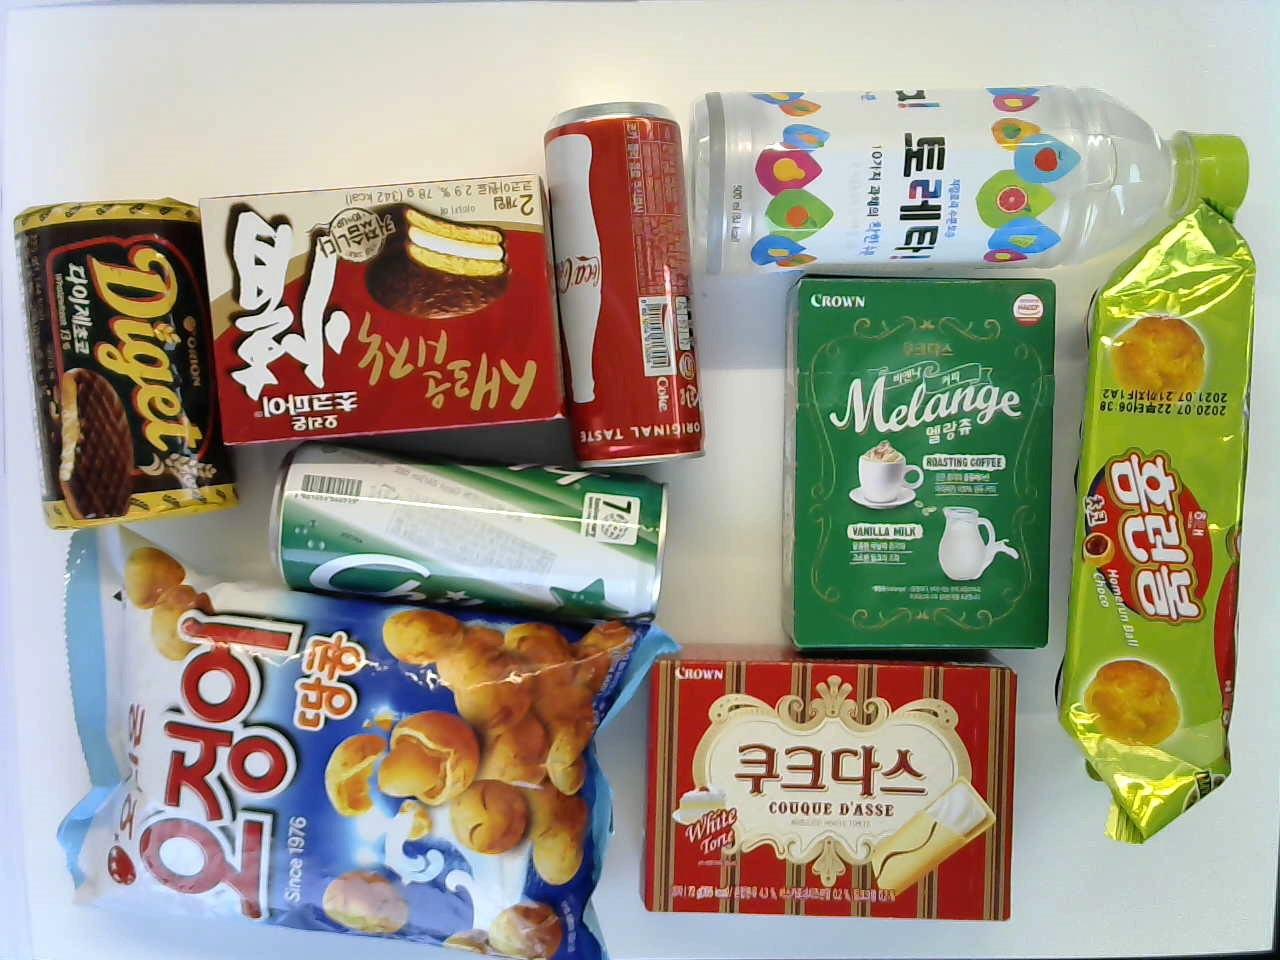chocopie: (211, 169, 542, 443)
cidar: (272, 450, 663, 612)
coke: (554, 99, 693, 481)
couque_coffee: (777, 274, 1063, 644)
couque_white: (642, 665, 1012, 904)
diget_choco: (8, 199, 240, 528)
homerunball: (1089, 204, 1240, 848)
squid_peanut: (57, 543, 666, 949)
toreta: (702, 78, 1259, 276)
